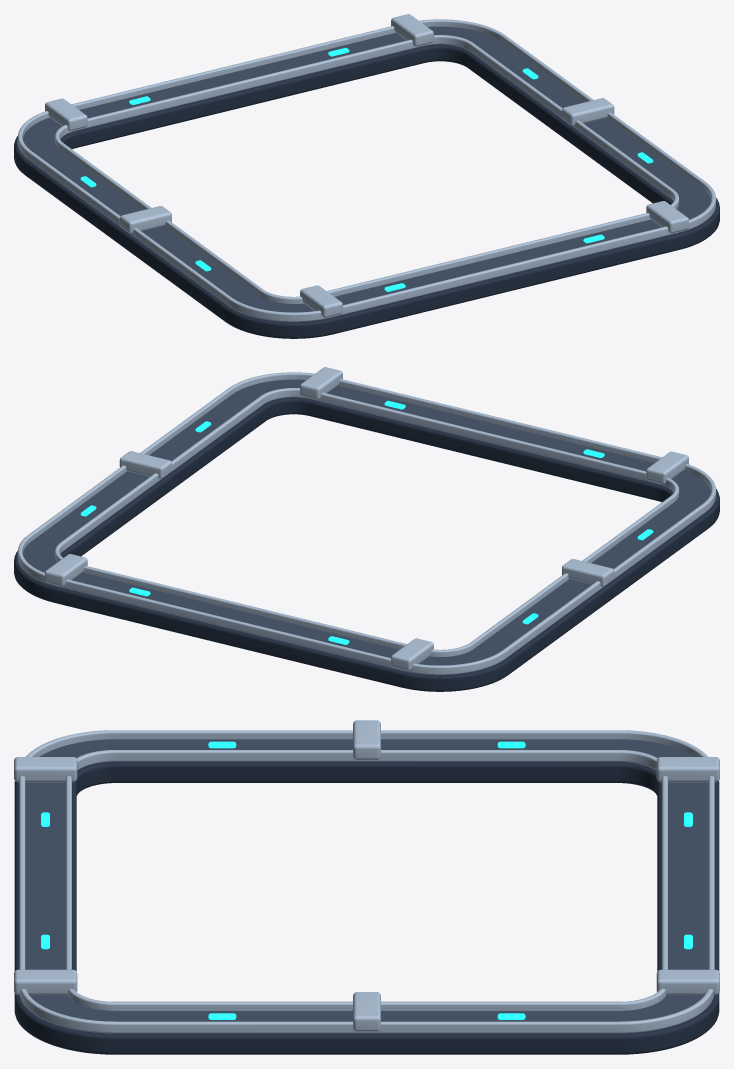
The model's file is AFJ_Orbit.fbx.
3 views of the same model, one above another, from view 1: azimuth 30°, elevation 25°; view 2: azimuth 150°, elevation 25°; view 3: azimuth 270°, elevation 25° (orthographic). The views are drawn at different scales.
Parts seen in each view (by area): view 1: Orbit_Base, Travel_Channel, Outer_Silver_Rail, Inner_Silver_Rail, Side_Clamp.001, Side_Clamp, Corner_Clamp.003, Corner_Clamp, Corner_Clamp.002, Corner_Clamp.001; view 2: Orbit_Base, Travel_Channel, Outer_Silver_Rail, Inner_Silver_Rail, Side_Clamp.001, Side_Clamp, Corner_Clamp.001, Corner_Clamp, Corner_Clamp.002, Corner_Clamp.003; view 3: Orbit_Base, Travel_Channel, Outer_Silver_Rail, Inner_Silver_Rail, Corner_Clamp, Corner_Clamp.002, Corner_Clamp.001, Corner_Clamp.003, Side_Clamp, Side_Clamp.001.
Boxes of the visible parts, box(x1,y1,x2,y2) form: Orbit_Base: box(14, 44, 719, 338); Travel_Channel: box(22, 26, 711, 312); Outer_Silver_Rail: box(17, 19, 716, 321); Inner_Silver_Rail: box(54, 35, 679, 303); Side_Clamp.001: box(562, 98, 614, 125); Side_Clamp: box(119, 206, 171, 233); Corner_Clamp.003: box(391, 14, 433, 46); Corner_Clamp: box(300, 285, 342, 317); Corner_Clamp.002: box(45, 98, 87, 130); Corner_Clamp.001: box(646, 201, 688, 233); Orbit_Base: box(14, 397, 719, 691); Travel_Channel: box(22, 379, 711, 665); Outer_Silver_Rail: box(17, 372, 716, 674); Inner_Silver_Rail: box(54, 388, 679, 656); Side_Clamp.001: box(119, 451, 171, 478); Side_Clamp: box(562, 559, 614, 586); Corner_Clamp.001: box(300, 367, 342, 399); Corner_Clamp: box(646, 451, 688, 483); Corner_Clamp.002: box(391, 638, 433, 670); Corner_Clamp.003: box(45, 554, 87, 586); Orbit_Base: box(14, 761, 719, 1054); Travel_Channel: box(25, 739, 708, 1021); Outer_Silver_Rail: box(19, 730, 714, 1033); Inner_Silver_Rail: box(66, 750, 667, 1010); Corner_Clamp: box(14, 757, 77, 782); Corner_Clamp.002: box(656, 757, 719, 782); Corner_Clamp.001: box(14, 969, 77, 994); Corner_Clamp.003: box(656, 969, 719, 994); Side_Clamp: box(353, 720, 380, 759); Side_Clamp.001: box(353, 992, 380, 1031).
Bounding box in the file's own units: 659 × 40 × 659.
